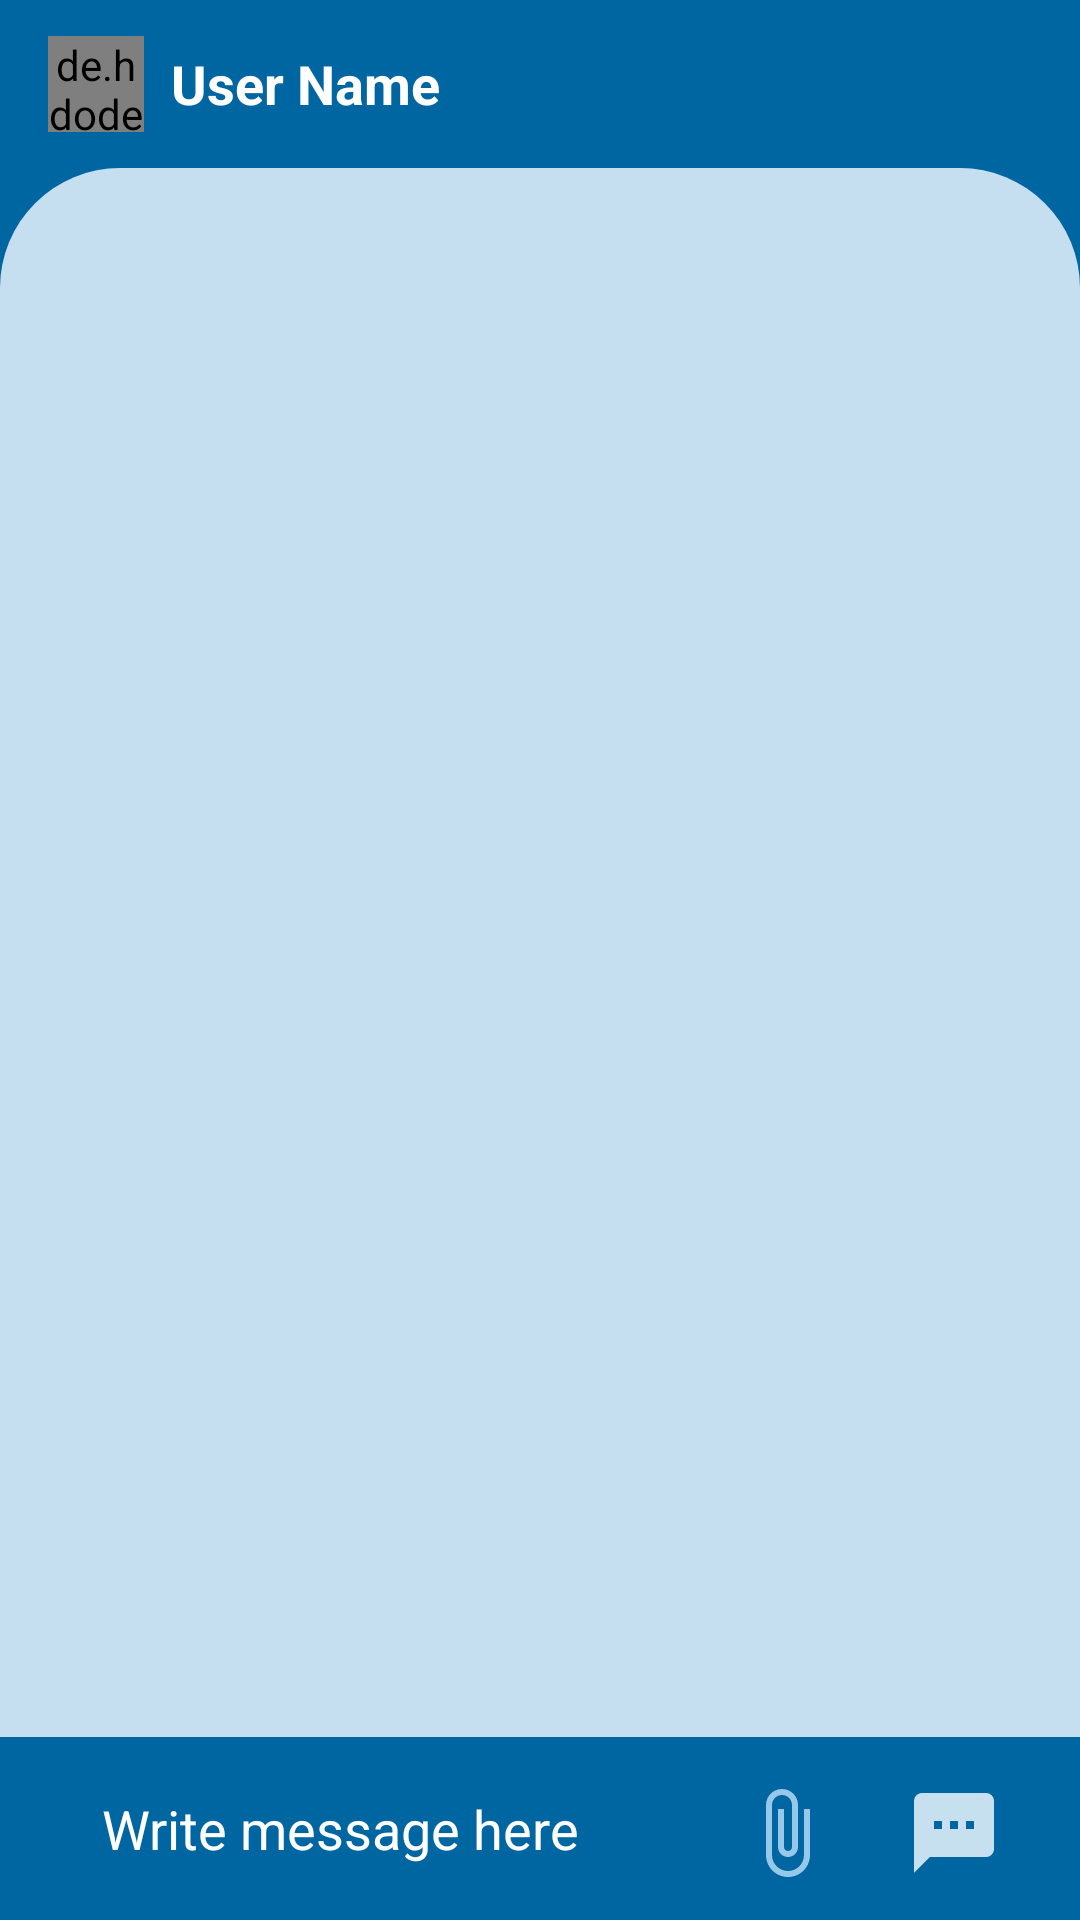

Icons on this 1080x1920 Android screen, each with the point to tap as (x=x, y=y):
attach file: (x=788, y=1833)
send message: (x=954, y=1833)
